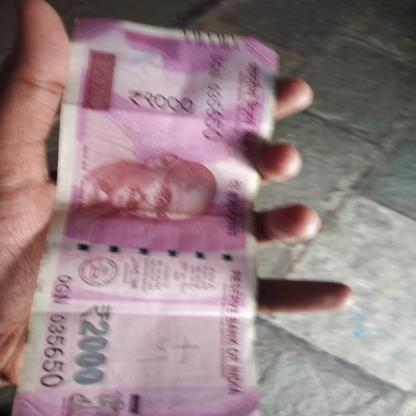New2000Front: (39, 35, 246, 415)
